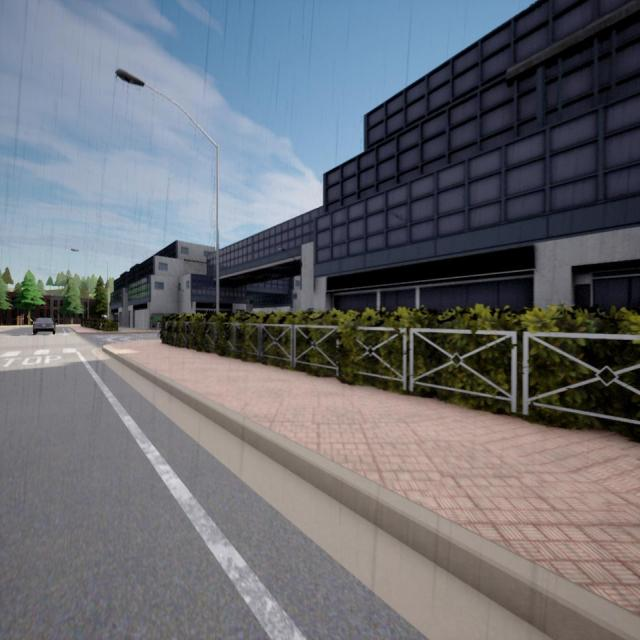Vehicle: (32, 317, 56, 335)
